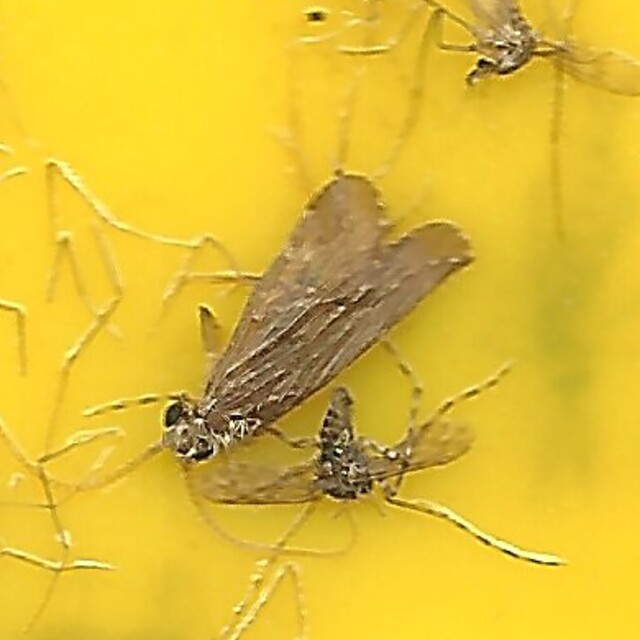Trichoptera: (164, 165, 476, 475)
